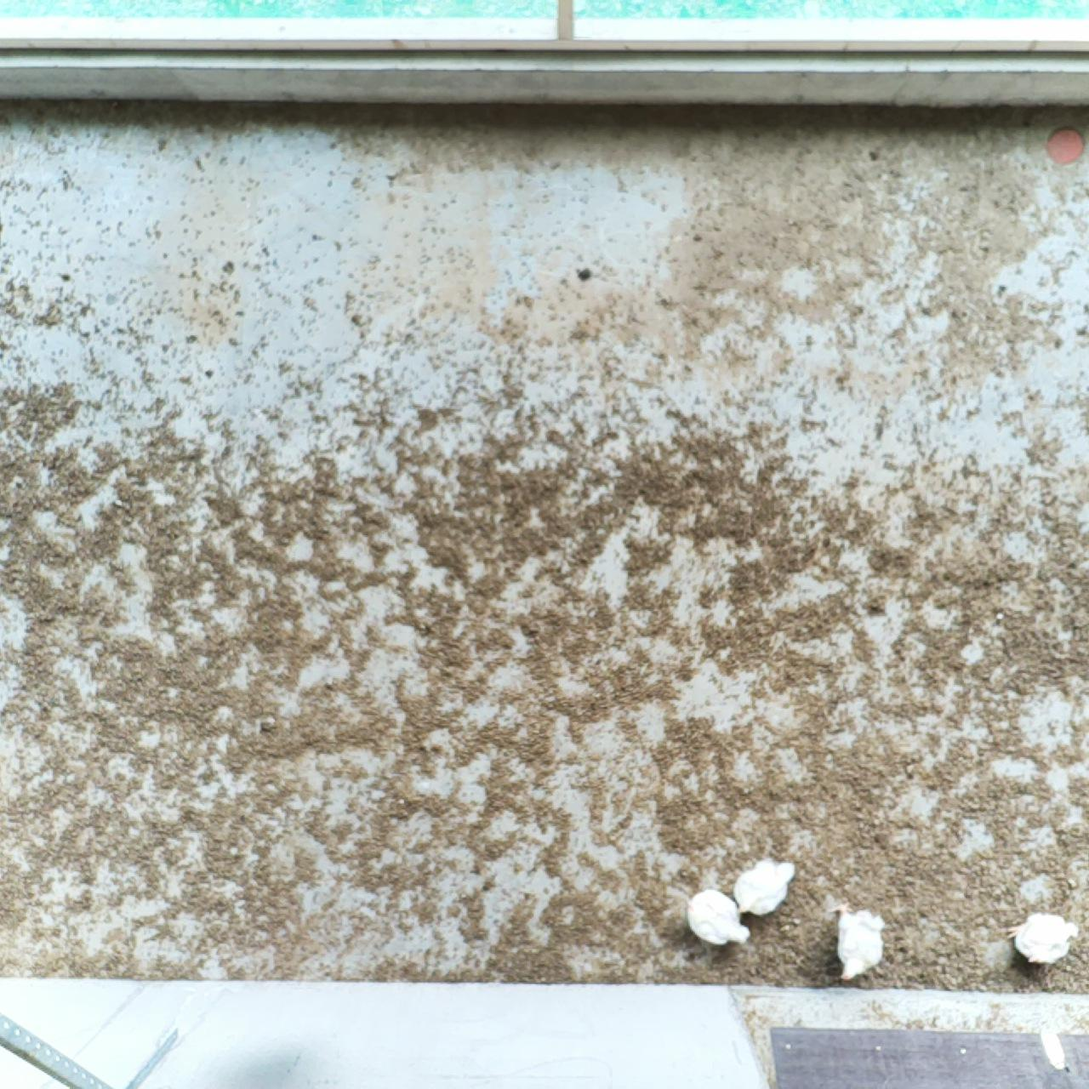chicken: (824, 897, 886, 982), (1003, 913, 1080, 964), (686, 890, 749, 946), (735, 860, 797, 914)
